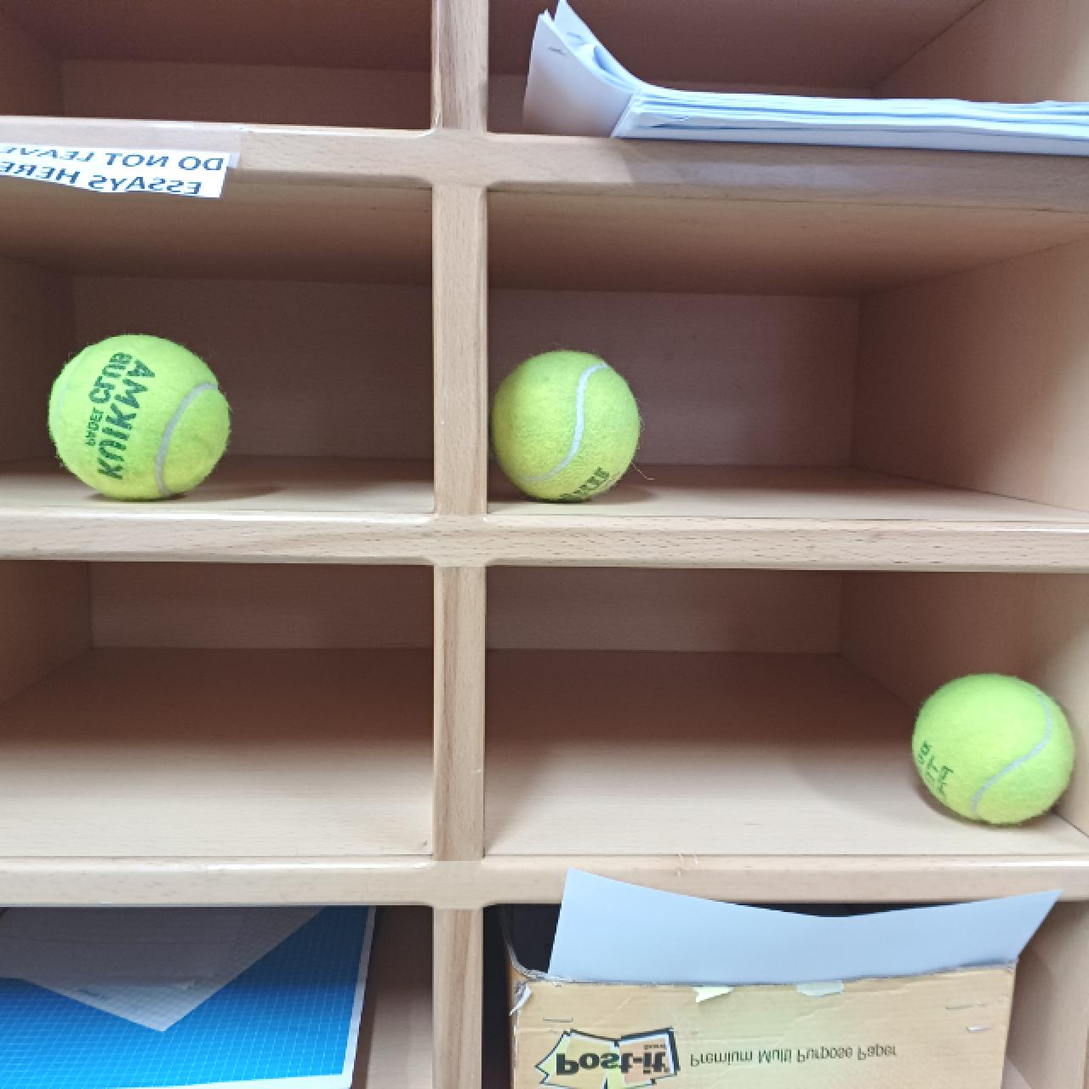tennis-ball: (46, 326, 235, 503), (908, 670, 1078, 831), (484, 346, 647, 503)
